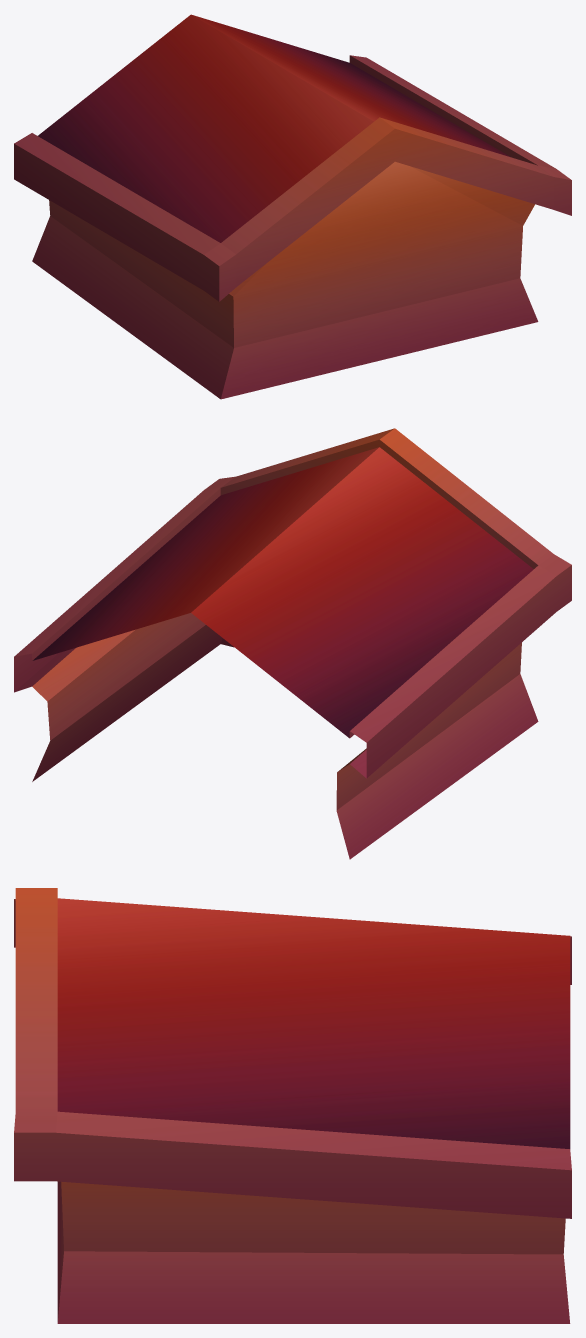
File: House Body 3.fbx
The picture shows the model from 3 angles, top to bottom: view 1: azimuth 30°, elevation 25°; view 2: azimuth 150°, elevation 25°; view 3: azimuth 270°, elevation 25°; orthographic projection. The views are drawn at different scales.
Visible parts, largest first — view 1: House Body 3; view 2: House Body 3; view 3: House Body 3.
Part boxes in pixels (<box>): House Body 3: <box>14,14,571,399</box>; House Body 3: <box>14,428,571,859</box>; House Body 3: <box>14,888,571,1323</box>.
Size of the model in its own units: 210 by 139 by 212.
